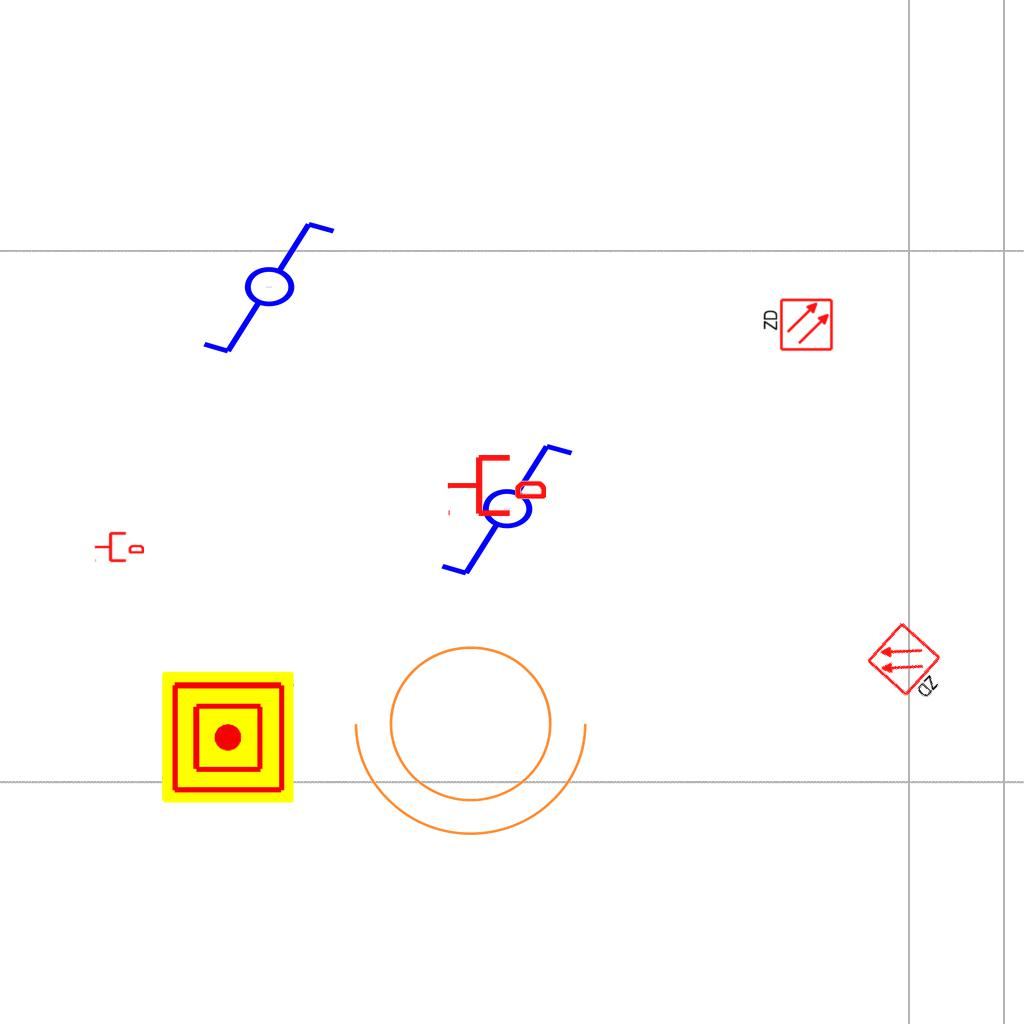Datenanschluss_einfach: (446, 451, 546, 520), (94, 530, 144, 564)
NAM-Nichtautomatischer_Melder: (162, 671, 294, 803)
Scheinwerfer_fuer_Alarmbeleuchtung: (345, 621, 609, 846)
Wechselschalter: (437, 439, 594, 583), (199, 217, 356, 361)
ZD_Melder_in_Zwischendecke_mit_Revisionsoeffnung_mind_40_x_40_cm: (864, 619, 959, 711), (760, 297, 834, 354)
